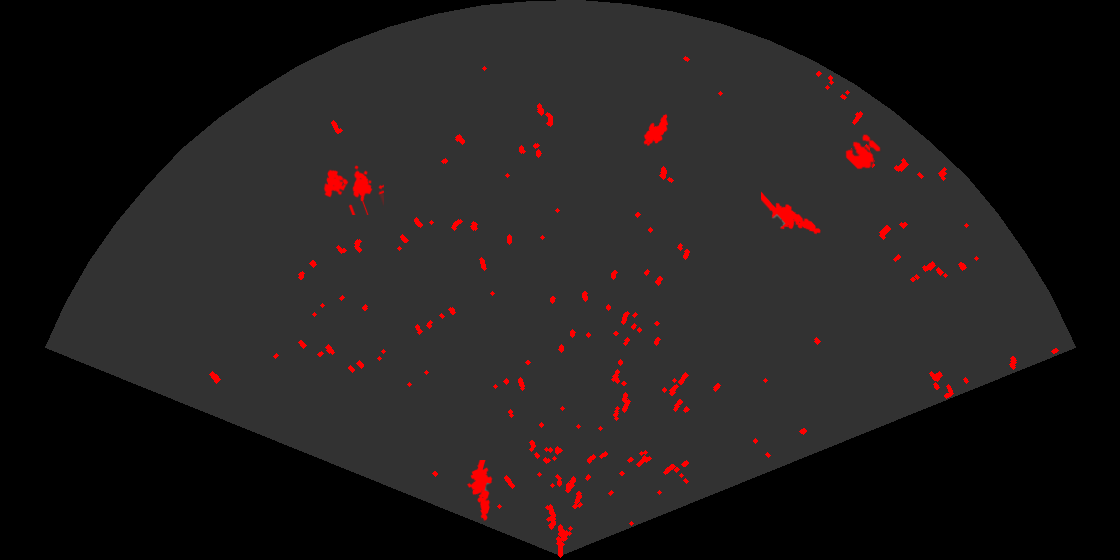AUV: (642, 112, 670, 148)
ball: (844, 133, 882, 171)
cage: (322, 164, 384, 215)
frogman: (761, 190, 822, 236), (465, 460, 494, 522)
